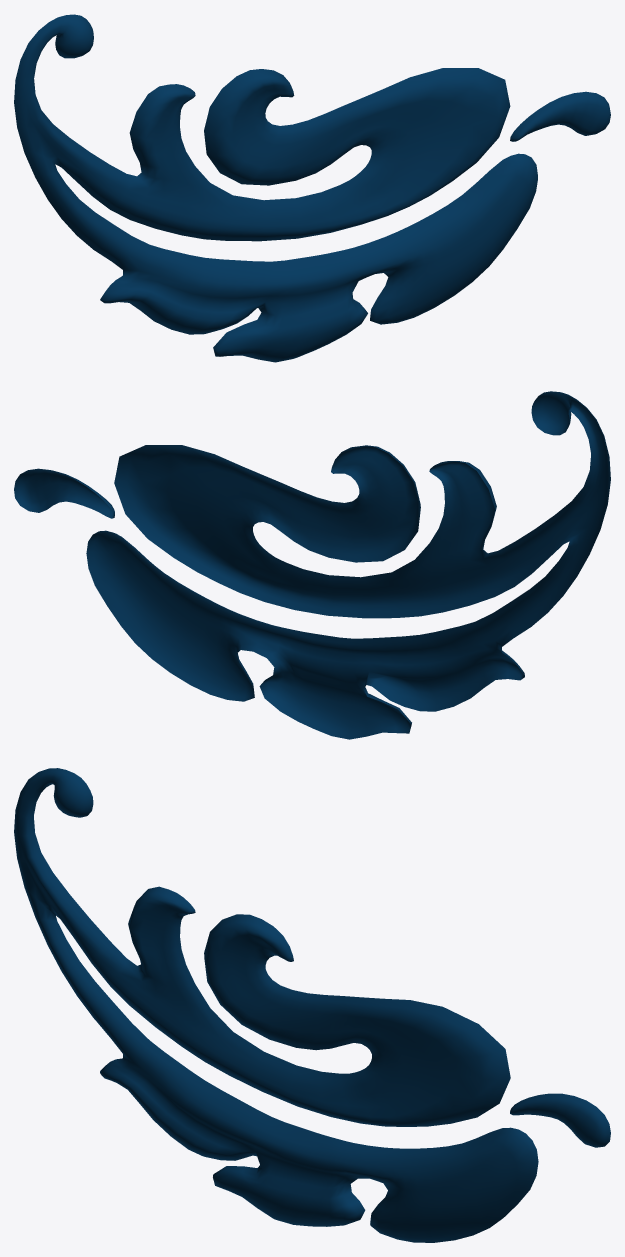
File: Rayo.gltf
The picture shows the model from 3 angles, top to bottom: view 1: azimuth 30°, elevation 25°; view 2: azimuth 150°, elevation 25°; view 3: azimuth 330°, elevation 25°; orthographic projection.
Parts seen in each view (by area): view 1: leaf_3D_design; view 2: leaf_3D_design; view 3: leaf_3D_design.
Boxes of the visible parts, x1,y1,x2,y2 form: leaf_3D_design: (14, 14, 610, 362); leaf_3D_design: (14, 391, 610, 739); leaf_3D_design: (14, 768, 610, 1242).
Size of the model in its own units: 82.68 by 52.88 by 2.39.
1 material, 1 textured.
